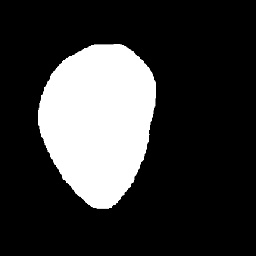mass: (43, 34, 156, 184)
